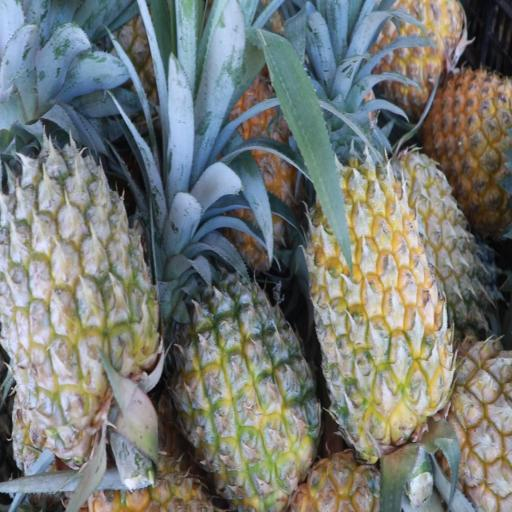------------------------------: (2, 150, 156, 441)
Pineapple - v8 v1: (314, 160, 450, 448), (179, 278, 315, 505), (423, 72, 512, 223), (374, 0, 467, 105)
